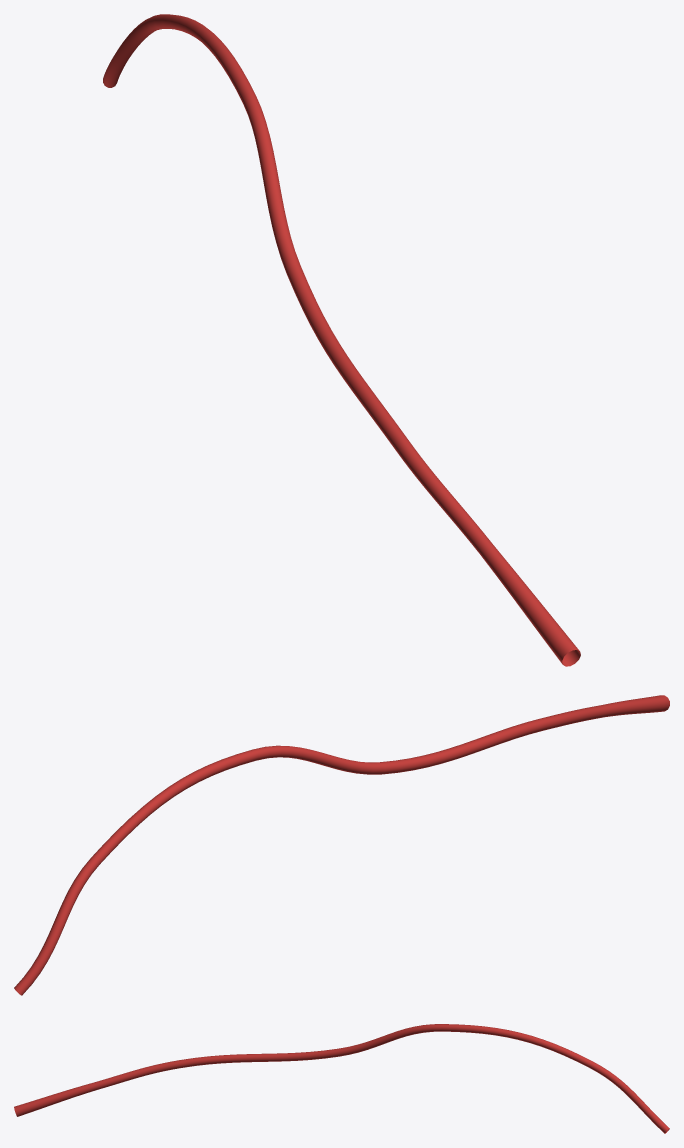
The picture shows the model from 3 angles, top to bottom: view 1: azimuth 30°, elevation 25°; view 2: azimuth 150°, elevation 25°; view 3: azimuth 270°, elevation 25°; orthographic projection. The views are drawn at different scales.
Parts seen in each view (by area): view 1: 左侧尺侧上副动脉; view 2: 左侧尺侧上副动脉; view 3: 左侧尺侧上副动脉.
Part boxes in pixels (x1,y1,x2,y2): 左侧尺侧上副动脉: (103, 14, 580, 666); 左侧尺侧上副动脉: (14, 695, 669, 995); 左侧尺侧上副动脉: (14, 1024, 669, 1133).
Size of the model in its own units: 0.0327 by 0.0357 by 0.1766.
